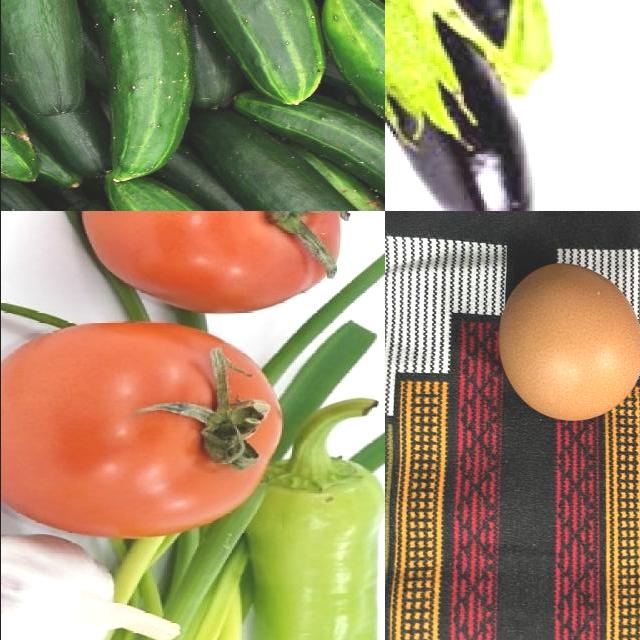cucumber: (75, 1, 192, 184), (228, 88, 385, 212), (1, 167, 385, 212), (177, 1, 330, 103), (201, 128, 385, 212), (1, 1, 88, 117), (325, 1, 385, 166), (1, 34, 39, 183)
egg: (495, 264, 640, 427)
eggplant: (385, 1, 535, 212)
garlic: (1, 534, 176, 640)
tomato: (1, 321, 284, 536), (77, 212, 348, 314)
